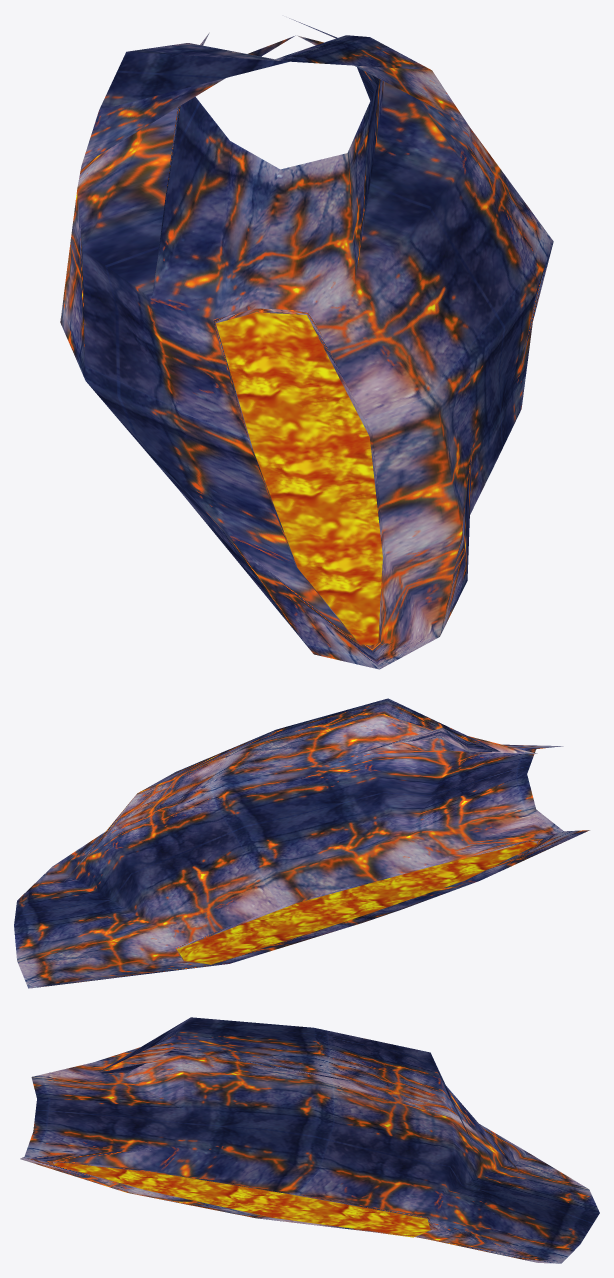
The model's file is bigcave02.glb.
3 views of the same model, one above another, from view 1: azimuth 30°, elevation 25°; view 2: azimuth 150°, elevation 25°; view 3: azimuth 270°, elevation 25° (orthographic). The views are drawn at different scales.
Parts seen in each view (by area): view 1: bigcave02; view 2: bigcave02; view 3: bigcave02.
Part boxes in pixels (x1,y1,x2,y2): bigcave02: [60, 18, 553, 669]; bigcave02: [14, 698, 589, 988]; bigcave02: [20, 1017, 599, 1263].
Size of the model in its own units: 14539 by 7470 by 25699.
3 materials, 3 textured.
